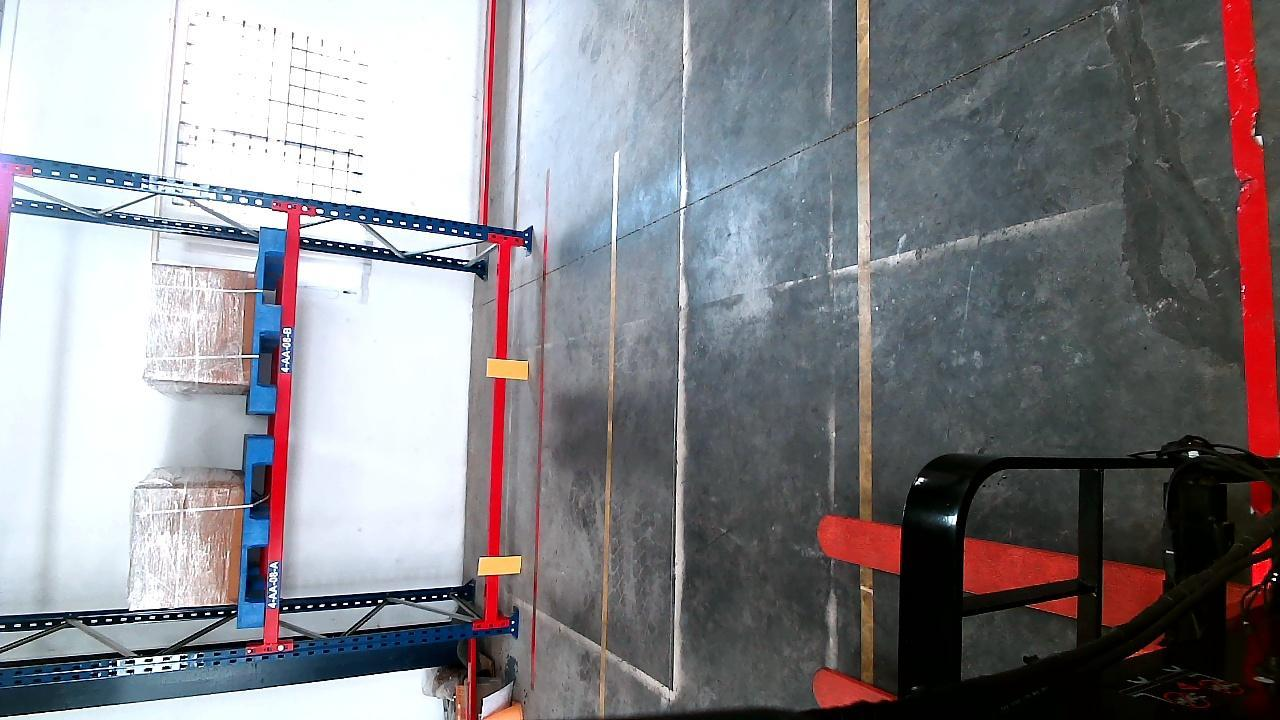red_line: (1215, 0, 1280, 466)
yellow_line: (595, 149, 626, 720), (854, 0, 877, 508)
